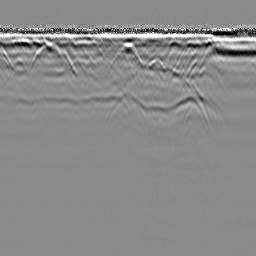cavity: (111, 42, 144, 68)
